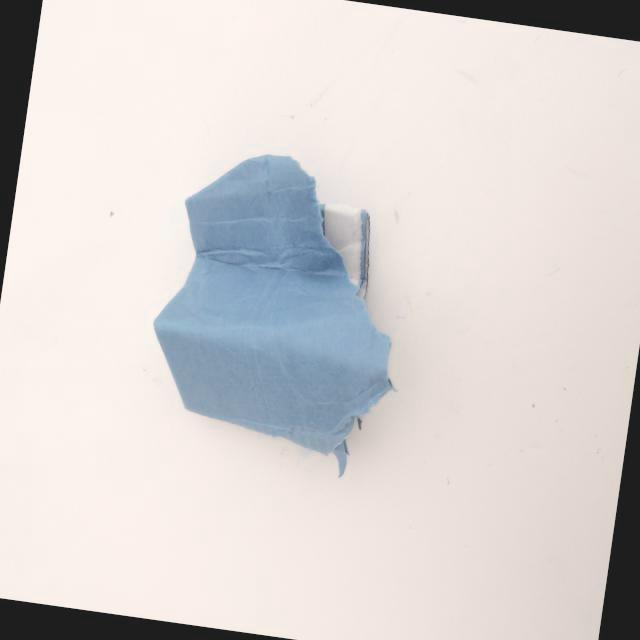cardboard: (120, 89, 464, 524)
